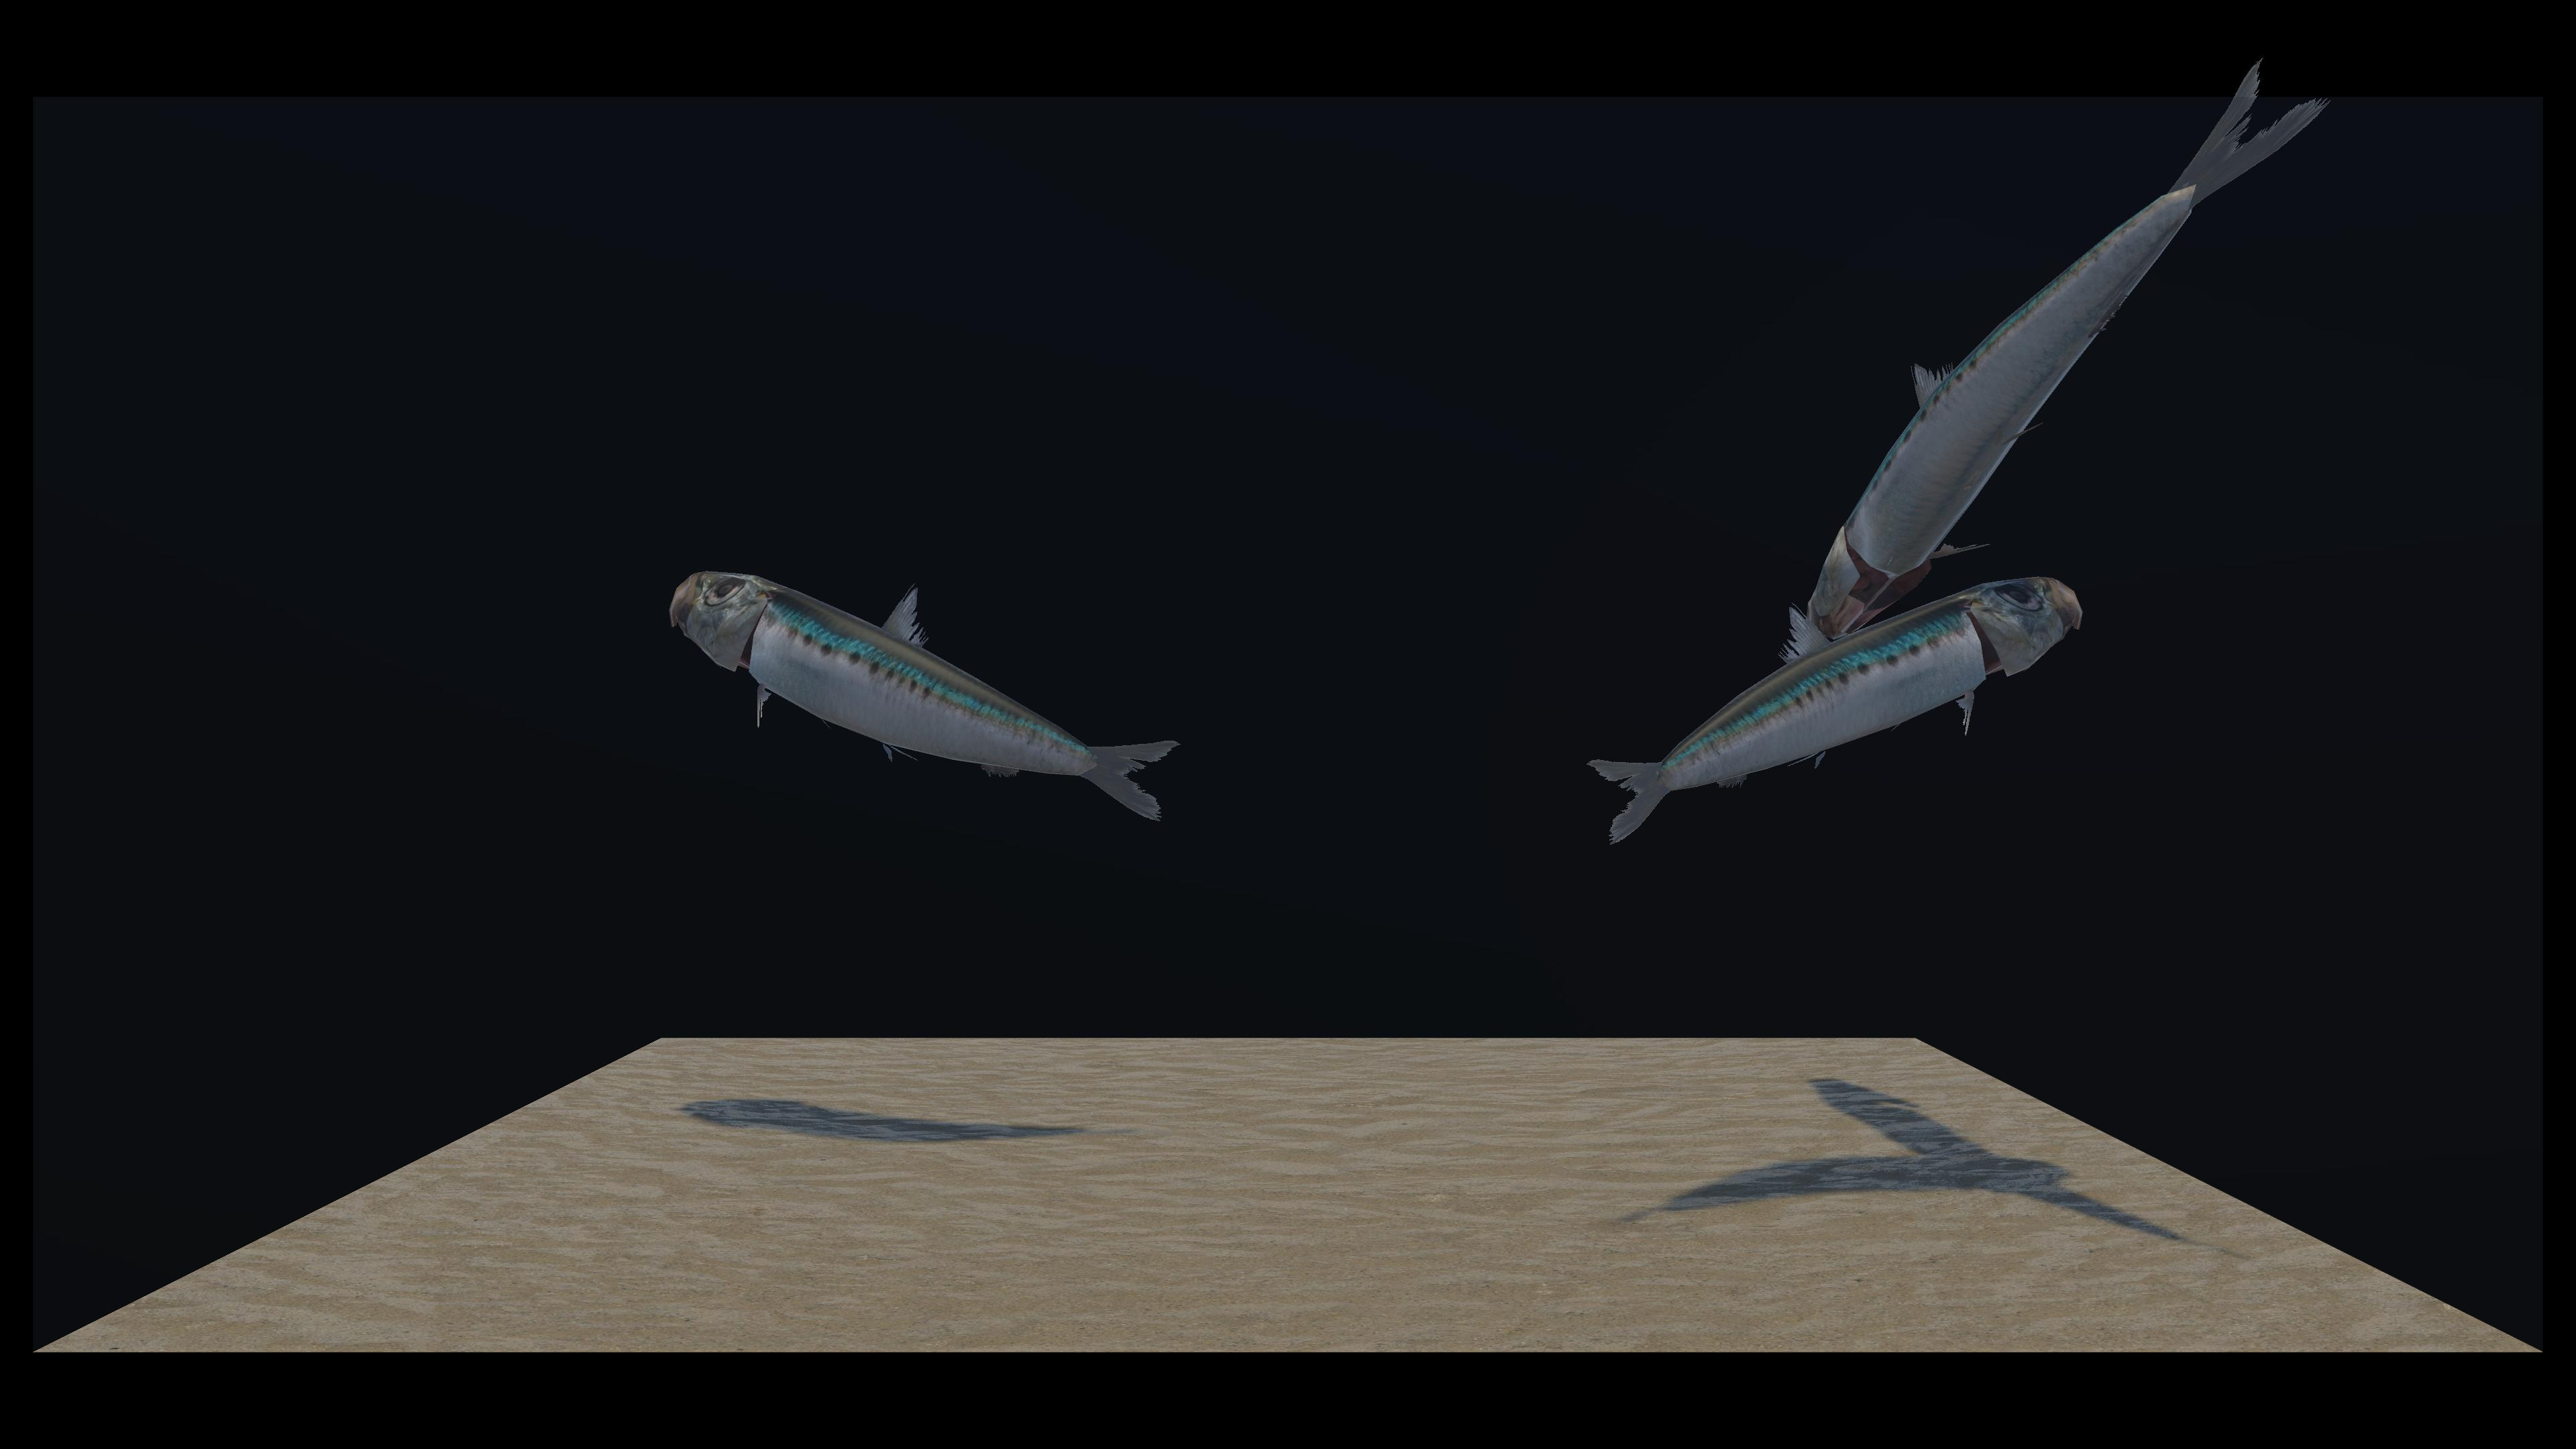Sardine_Front: (724, 71, 2314, 694), (750, 471, 2038, 846), (708, 533, 1173, 819)
